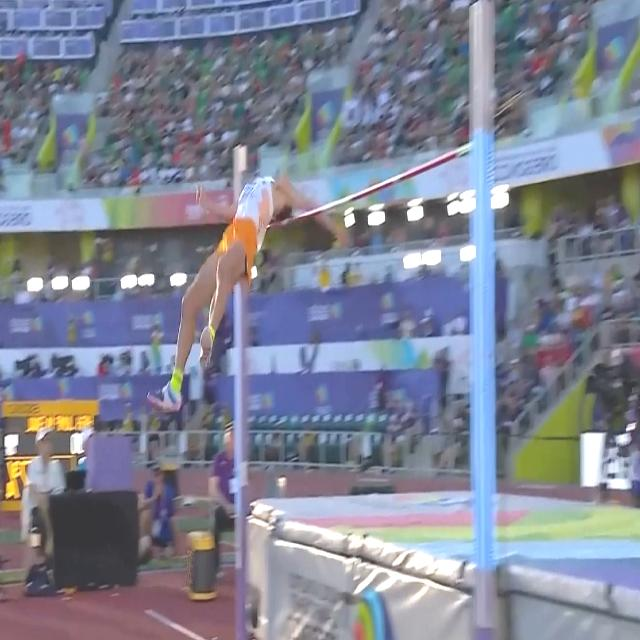jump: (146, 168, 350, 414)
